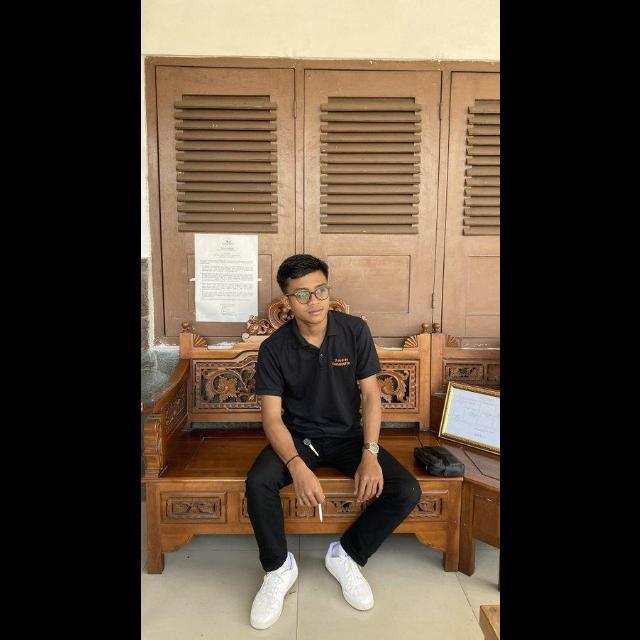rokok: (310, 486, 326, 524)
